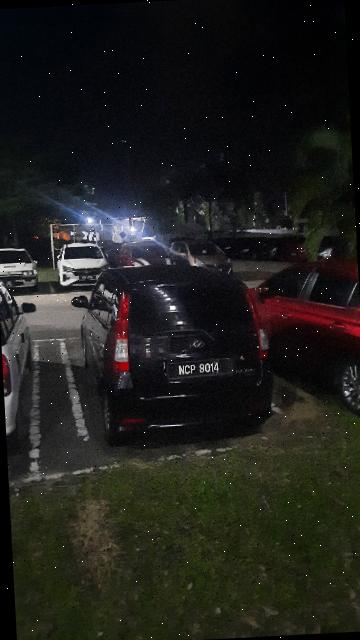License_Plate: (166, 358, 233, 379)
car: (68, 258, 276, 444), (248, 249, 360, 421), (1, 275, 43, 455), (170, 237, 235, 280), (57, 241, 113, 290), (116, 239, 177, 281), (1, 248, 40, 291)
